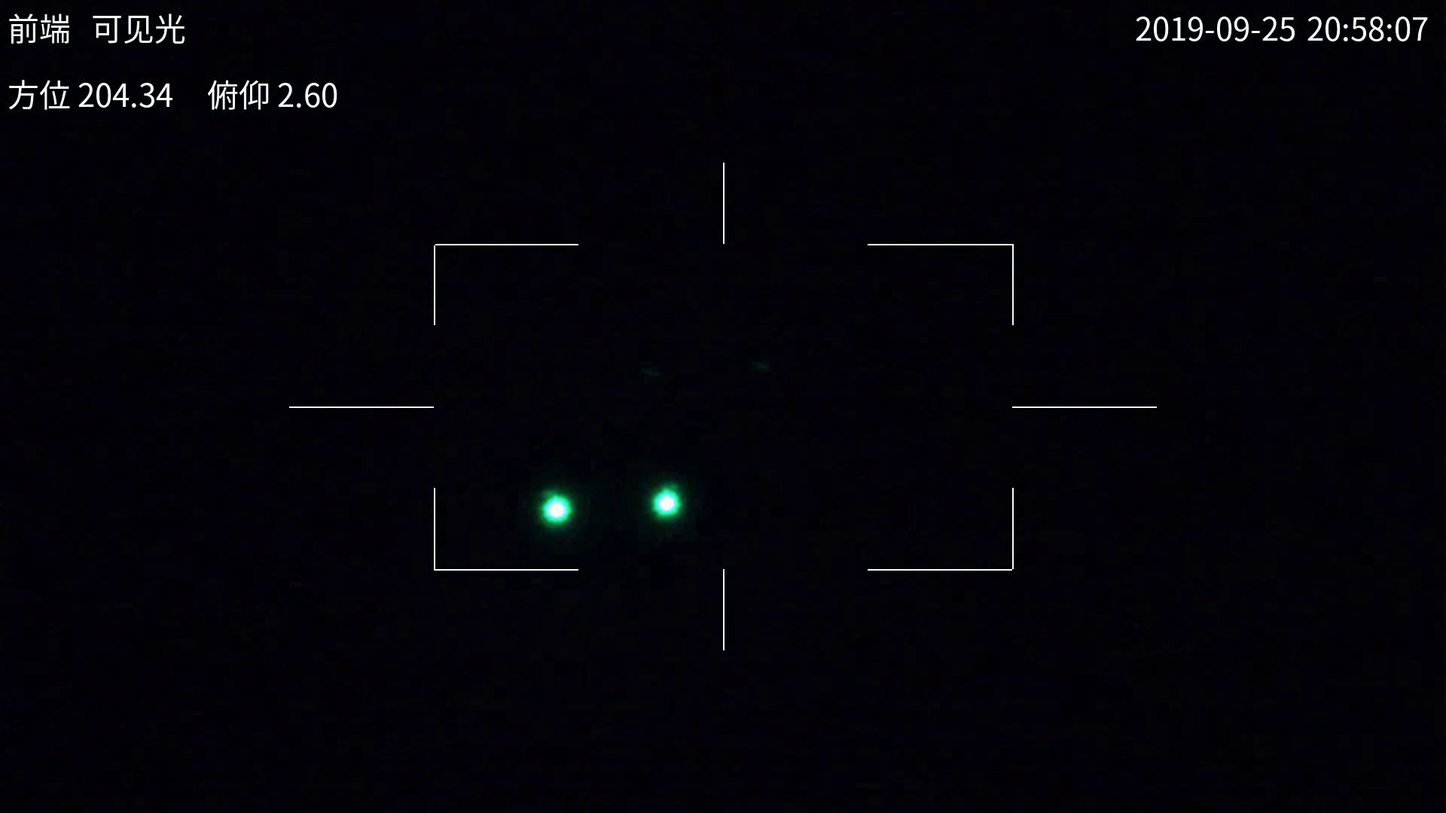drone: (535, 484, 689, 536)
